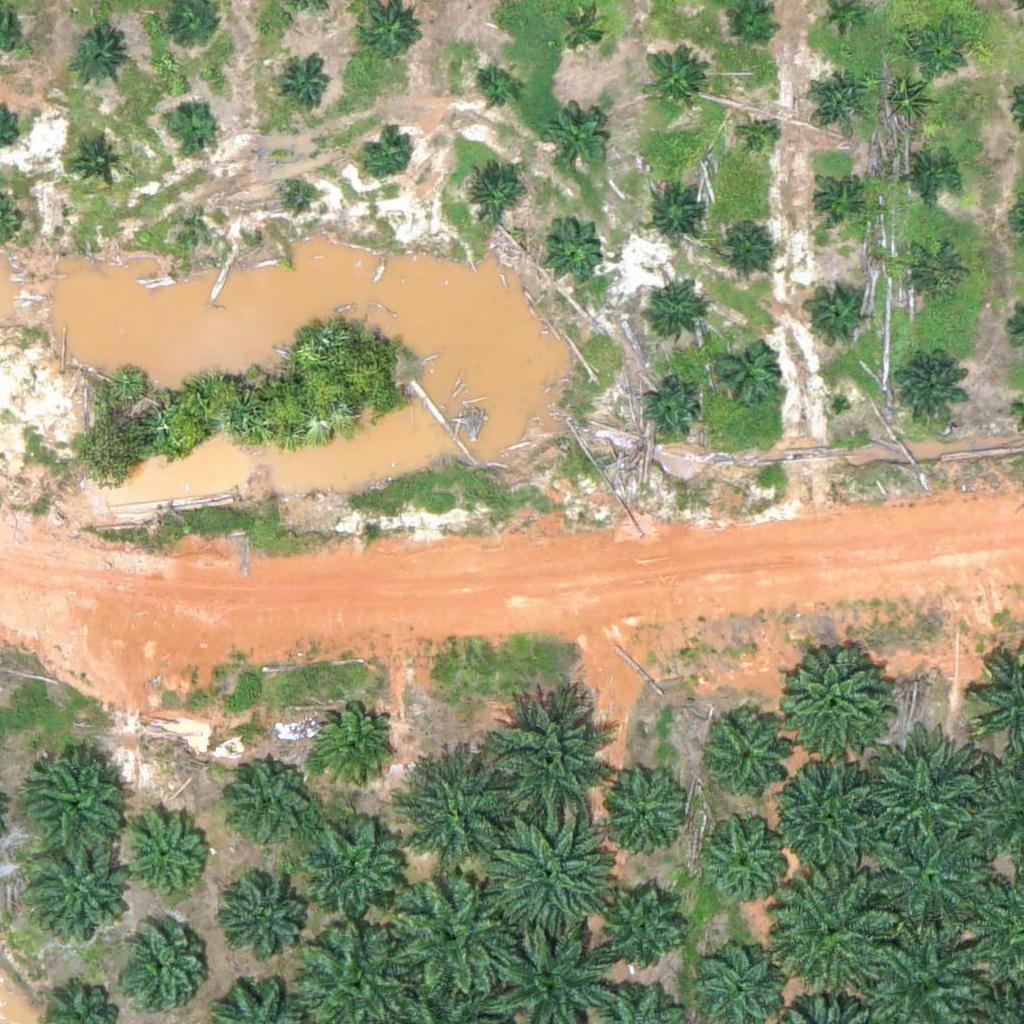Kelapa_Sawit: (870, 817, 995, 943), (864, 737, 989, 863), (768, 757, 893, 883), (490, 690, 615, 816), (485, 811, 610, 937), (399, 746, 524, 872), (394, 871, 519, 997), (779, 868, 904, 993), (773, 643, 886, 757), (306, 818, 406, 919), (29, 842, 129, 943), (25, 749, 125, 850), (593, 759, 693, 859), (228, 759, 316, 847), (121, 814, 209, 902), (118, 927, 206, 1015), (705, 815, 792, 903), (704, 716, 791, 804), (598, 888, 685, 976), (308, 702, 395, 790), (222, 878, 309, 966), (892, 348, 967, 424), (706, 335, 781, 411), (805, 65, 868, 128), (542, 106, 605, 169), (67, 29, 130, 92), (639, 283, 702, 346), (538, 215, 601, 278), (806, 284, 869, 347), (638, 380, 701, 443), (641, 47, 703, 110), (905, 243, 967, 306), (461, 160, 523, 223), (646, 185, 708, 247), (713, 213, 775, 275), (911, 30, 961, 81), (165, 96, 215, 147), (72, 139, 122, 190), (906, 152, 956, 202), (280, 62, 330, 112), (361, 129, 411, 179), (810, 175, 860, 225), (557, 9, 607, 59), (472, 66, 522, 116), (742, 121, 780, 159), (286, 182, 311, 207), (191, 216, 216, 241)
